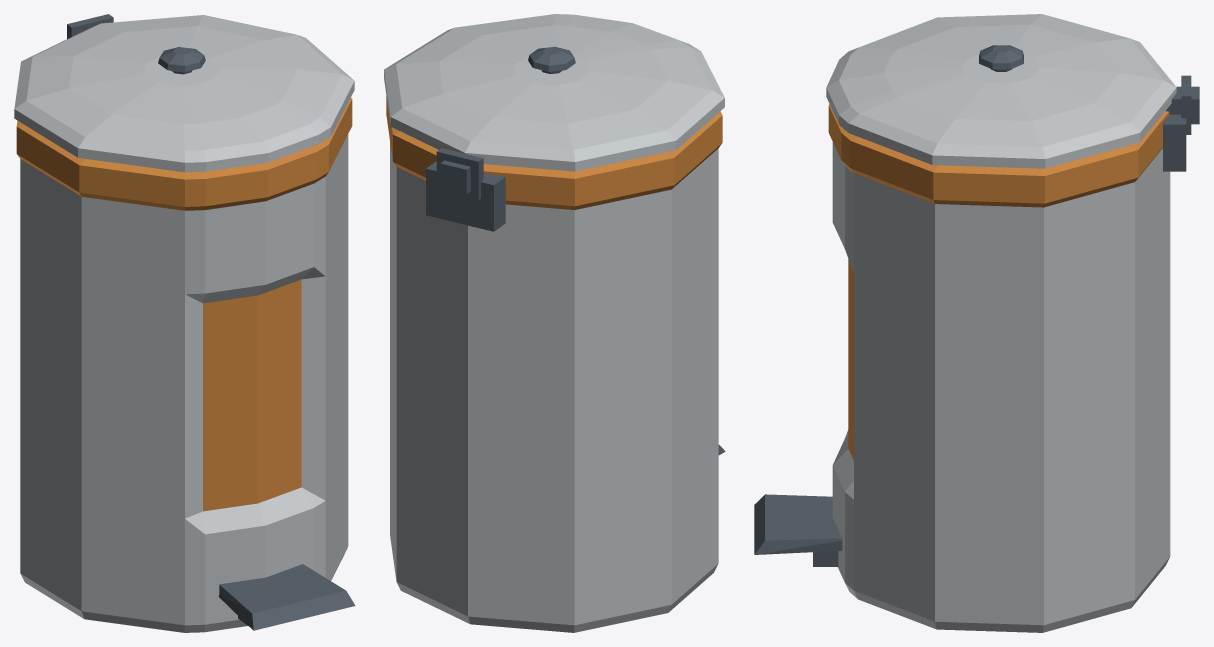
File: clinical-waste-bin-471ff3.glb
3 views of the same model, side by side, from view 1: azimuth 30°, elevation 25°; view 2: azimuth 150°, elevation 25°; view 3: azimuth 270°, elevation 25° (orthographic).
Parts seen in each view (by area): view 1: clinical-waste-bin, lid, pedal; view 2: clinical-waste-bin, lid; view 3: clinical-waste-bin, lid, pedal.
Boxes of the visible parts, box(x1,y1,x2,y2) form: clinical-waste-bin: box(16, 14, 352, 632); lid: box(14, 15, 354, 172); pedal: box(218, 564, 355, 630); clinical-waste-bin: box(386, 96, 722, 632); lid: box(384, 14, 724, 194); clinical-waste-bin: box(828, 75, 1191, 632); lid: box(826, 14, 1199, 168); pedal: box(754, 494, 842, 566).
Bounding box in the file's own units: 0.446 × 0.75 × 0.5853.
